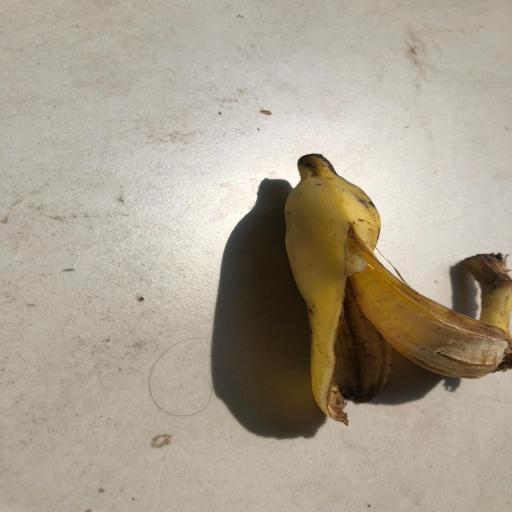waste: (262, 140, 512, 433)
